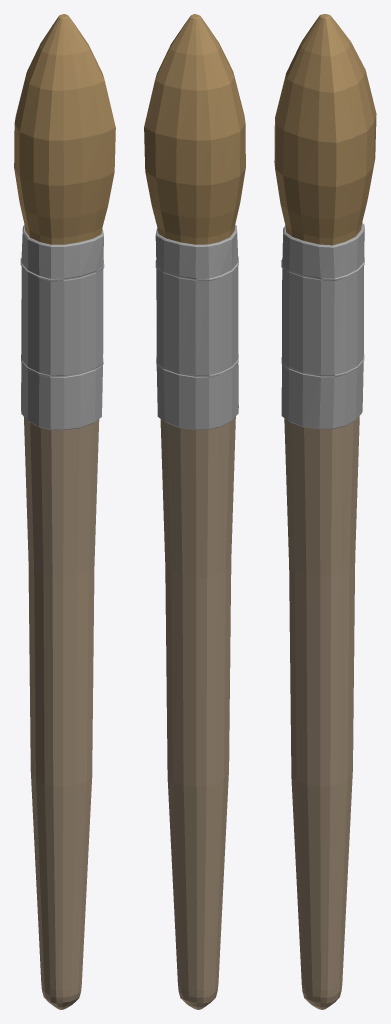
Rendered from Paintbrush_Recolourable.fbx.
The picture shows the model from 3 angles, left to right: view 1: azimuth 30°, elevation 25°; view 2: azimuth 150°, elevation 25°; view 3: azimuth 330°, elevation 25°; orthographic projection.
Parts seen in each view (by area): view 1: Multiverse_Academy_platform_models:paint_brush_model; view 2: Multiverse_Academy_platform_models:paint_brush_model; view 3: Multiverse_Academy_platform_models:paint_brush_model.
Boxes of the visible parts, x1,y1,x2,y2 form: Multiverse_Academy_platform_models:paint_brush_model: (14, 14, 115, 1009); Multiverse_Academy_platform_models:paint_brush_model: (144, 14, 245, 1009); Multiverse_Academy_platform_models:paint_brush_model: (274, 14, 376, 1009).
Size of the model in its own units: 3.74 by 40.93 by 3.46.
